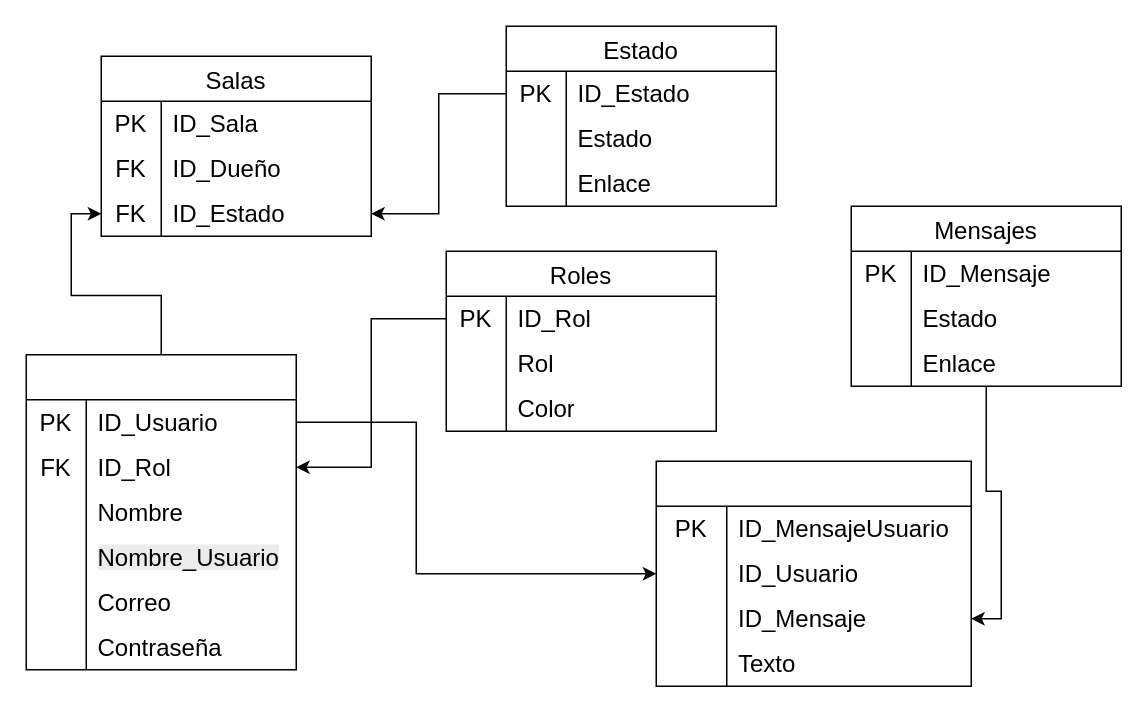
The diagram is 1148 pixels wide and 713 high, and some of its shapes have lost their labels. The shapes that lost their labels are listed below. From the top down, each one's box as (x1, y1, x2, y2) in pixels, then its label:
(25, 353, 296, 670): Usuarios
(655, 460, 971, 686): MensajesUsuario
